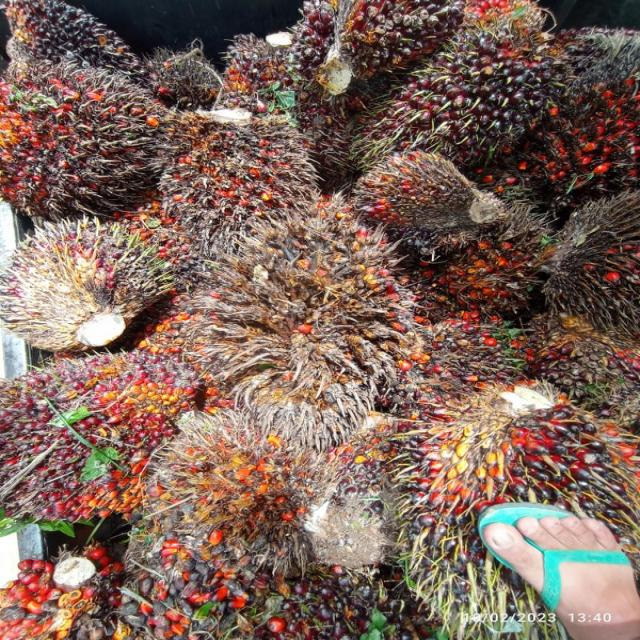fraksi 00: (348, 18, 568, 176), (261, 0, 456, 102), (6, 0, 166, 80)
fraksi 1: (0, 333, 225, 545), (350, 133, 477, 254)
fraksi 4: (151, 385, 389, 567), (5, 51, 206, 232), (154, 97, 343, 239), (516, 21, 640, 214), (440, 187, 560, 323)
